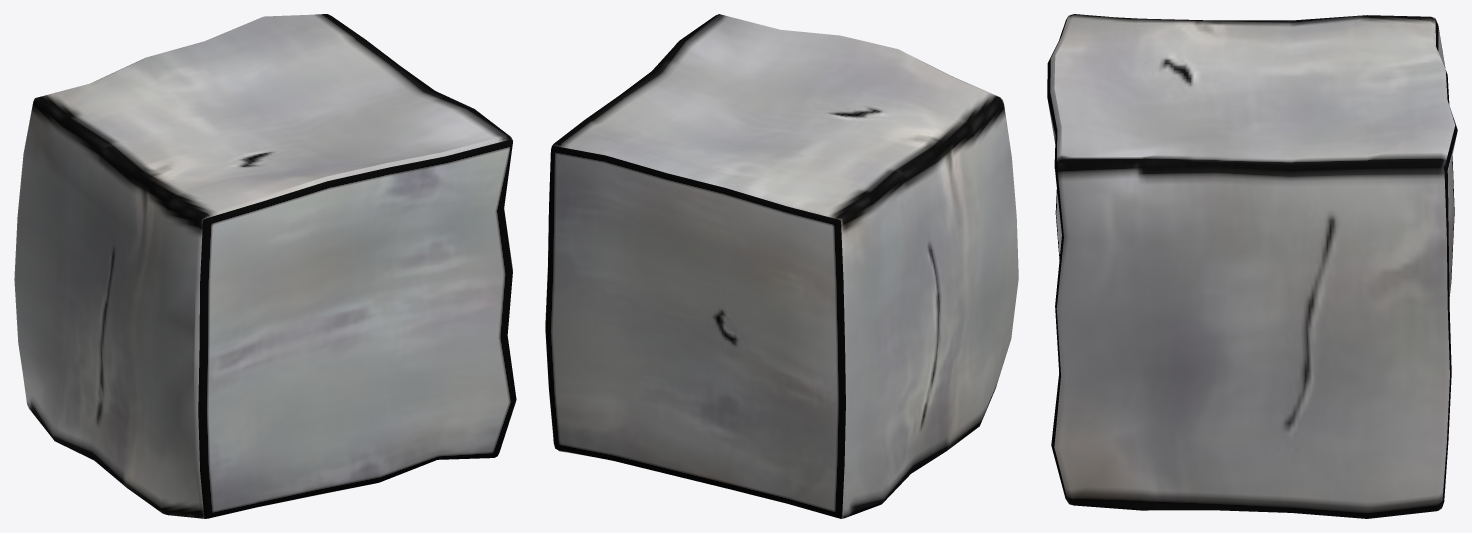
The model's file is cubic_rock_03.fbx.
3 views of the same model, side by side, from view 1: azimuth 30°, elevation 25°; view 2: azimuth 150°, elevation 25°; view 3: azimuth 270°, elevation 25° (orthographic). The views are drawn at different scales.
Visible parts, largest first — view 1: cubic_rock_03; view 2: cubic_rock_03; view 3: cubic_rock_03.
Part boxes in pixels (x1,y1,x2,y2): cubic_rock_03: (14,14,516,518); cubic_rock_03: (545,14,1018,518); cubic_rock_03: (1047,14,1457,518).
Size of the model in its own units: 45.81 by 46.12 by 46.21.
1 material, 1 textured.
